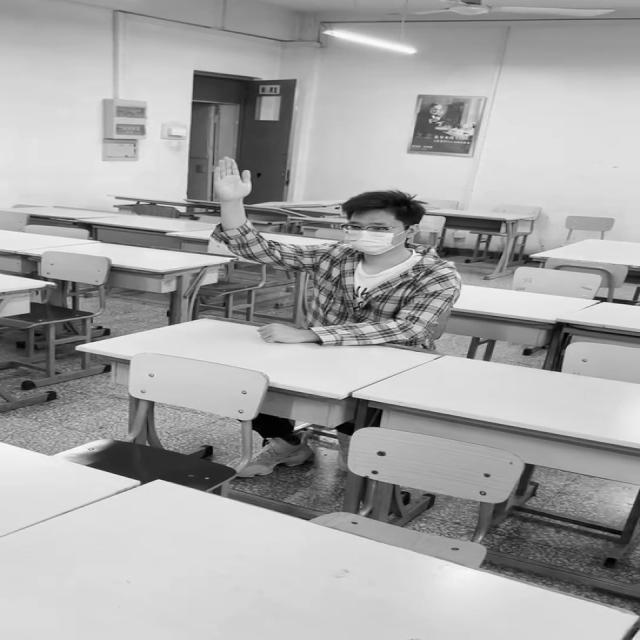study: (213, 156, 458, 345)
